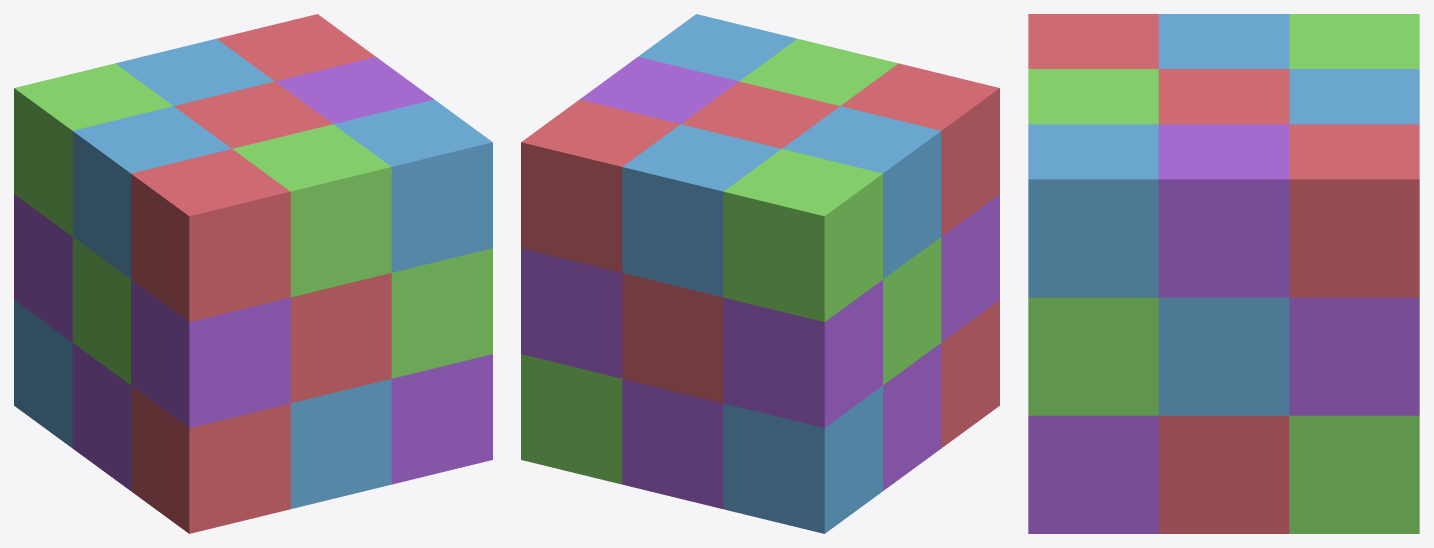
Rendered from PickupBlock.fbx.
3 renders of one model, left to right at view 1: azimuth 30°, elevation 25°; view 2: azimuth 150°, elevation 25°; view 3: azimuth 270°, elevation 25°, orthographic. The views are drawn at different scales.
Parts seen in each view (by area): view 1: Block; view 2: Block; view 3: Block.
Part boxes in pixels (x1,y1,x2,y2): Block: (14, 14, 492, 533); Block: (521, 14, 999, 533); Block: (1028, 14, 1419, 533).
Bounding box in the file's own units: 100 × 100 × 100.
